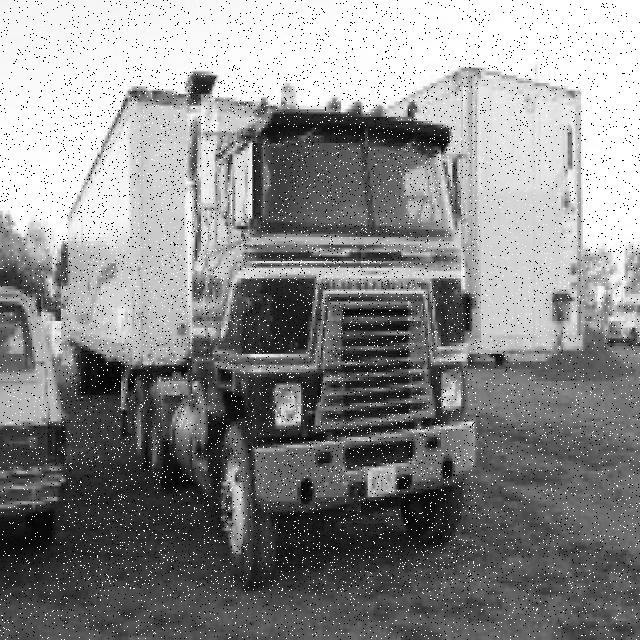Tractor Trailer: (60, 72, 477, 592)
